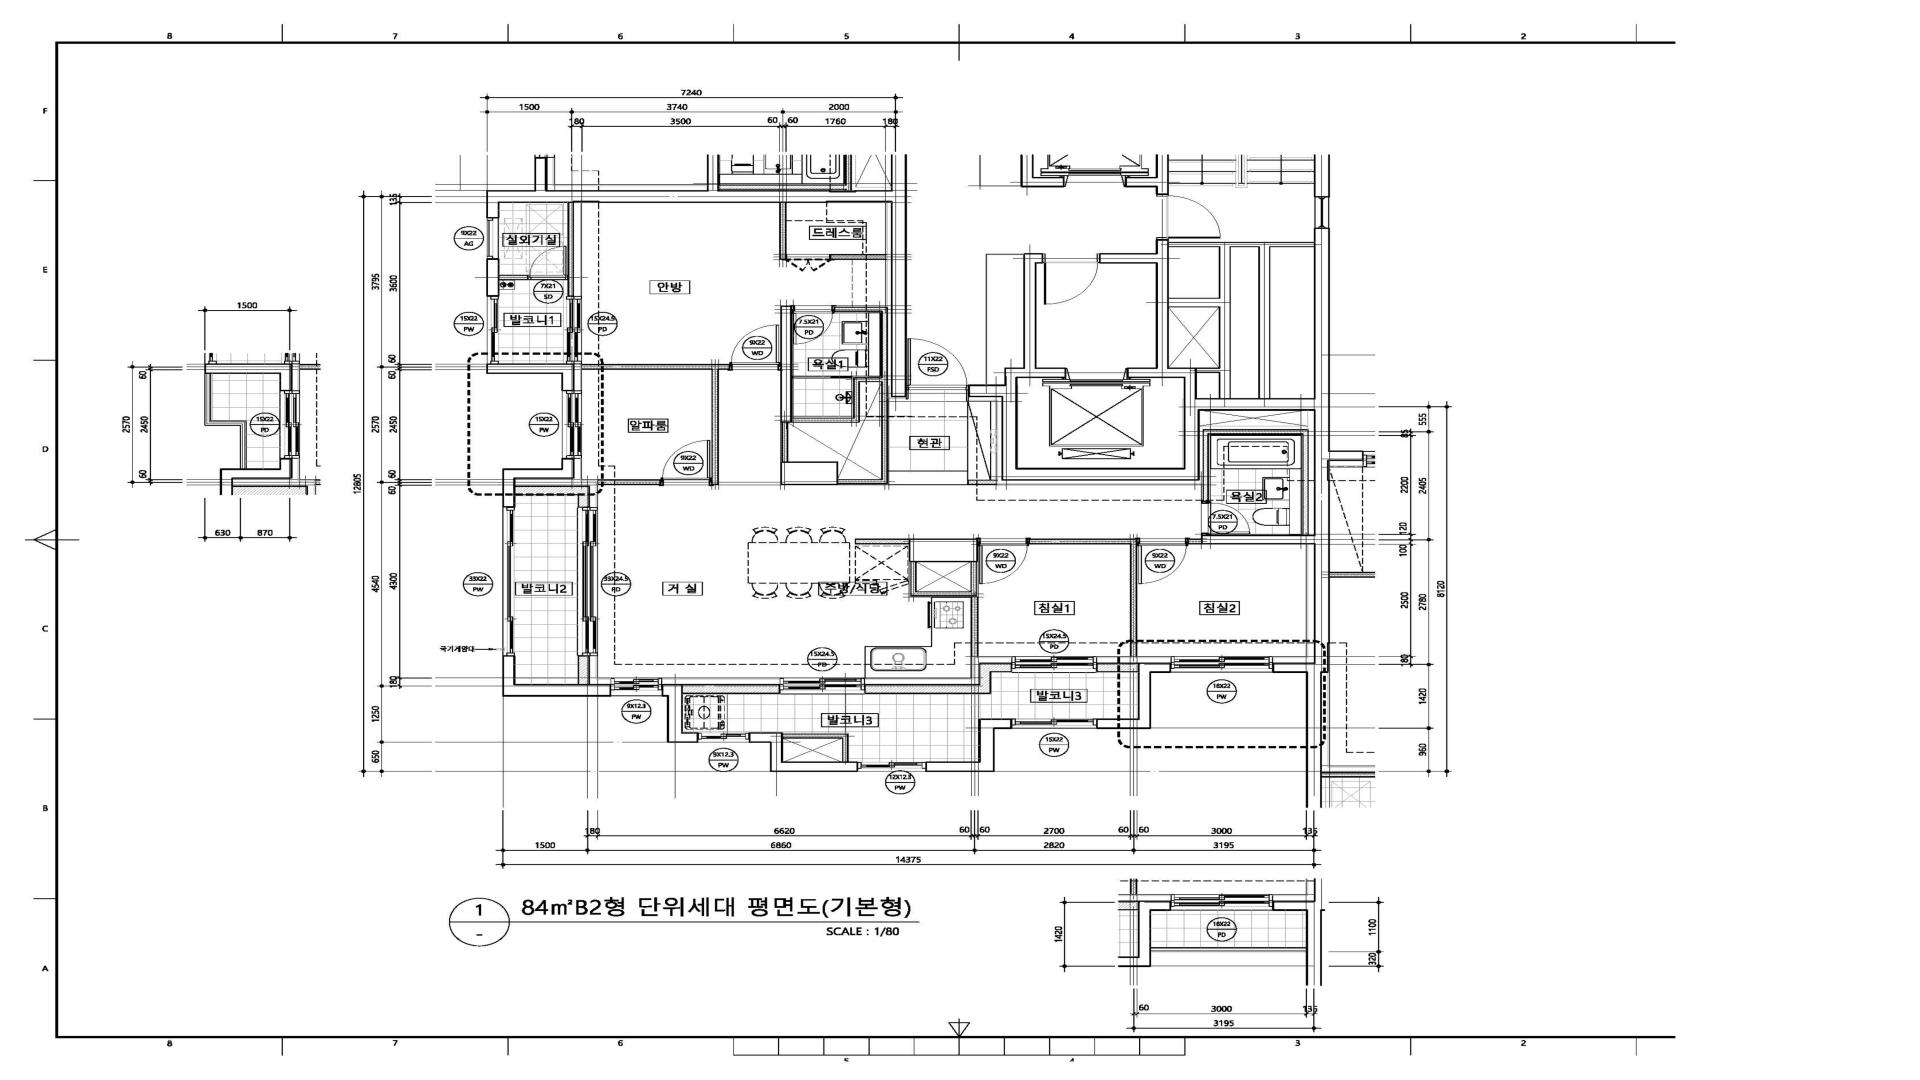door: (907, 339, 968, 390), (1155, 195, 1221, 239), (1043, 256, 1100, 306), (978, 537, 1031, 584), (659, 440, 712, 487), (1137, 538, 1189, 584), (729, 324, 781, 371), (791, 305, 836, 344), (1201, 501, 1250, 535), (529, 245, 568, 280), (786, 255, 831, 273)
wall: (1313, 228, 1331, 662), (968, 368, 1018, 480), (500, 190, 891, 203), (890, 154, 907, 397), (1018, 468, 1183, 480), (1258, 247, 1270, 398), (1218, 248, 1230, 398), (1155, 239, 1168, 368), (909, 538, 978, 562), (1184, 378, 1200, 480), (779, 306, 793, 422), (781, 462, 839, 485), (1023, 264, 1036, 368), (1200, 398, 1315, 410), (865, 684, 980, 695), (881, 307, 887, 479), (516, 684, 611, 696), (770, 761, 858, 773), (1201, 535, 1315, 545), (662, 684, 683, 733), (582, 364, 729, 371), (711, 369, 719, 485), (683, 684, 781, 694), (1302, 429, 1309, 535), (487, 364, 575, 373), (1097, 662, 1171, 673), (1130, 538, 1137, 655), (1168, 241, 1313, 247), (1127, 368, 1197, 378), (978, 729, 994, 773), (1313, 154, 1329, 198), (1030, 538, 1130, 545), (516, 485, 578, 496), (926, 761, 978, 773), (567, 203, 574, 295), (1138, 673, 1151, 719), (1273, 662, 1329, 673), (1100, 253, 1155, 264), (1097, 719, 1151, 729), (502, 655, 516, 696), (502, 468, 516, 508), (1018, 368, 1067, 378), (487, 258, 500, 297), (1209, 429, 1302, 434), (1156, 154, 1168, 195), (1203, 429, 1209, 501), (516, 468, 560, 479), (971, 597, 978, 657), (1168, 298, 1218, 307), (779, 203, 787, 260), (1021, 154, 1034, 187), (770, 732, 783, 762), (487, 190, 500, 219), (578, 655, 591, 684), (980, 662, 992, 694), (855, 538, 909, 545), (910, 591, 977, 596), (666, 732, 699, 742), (978, 719, 1011, 729), (597, 480, 659, 485), (1034, 177, 1064, 187), (793, 418, 853, 423), (783, 733, 843, 738), (781, 422, 789, 462), (1126, 177, 1155, 187), (853, 377, 860, 423), (831, 255, 887, 260), (562, 458, 575, 479), (578, 485, 589, 508), (837, 479, 887, 484), (562, 373, 575, 390), (749, 732, 770, 742), (990, 662, 1011, 673), (1023, 253, 1043, 264), (500, 274, 529, 281), (910, 562, 916, 591), (971, 562, 977, 591), (843, 733, 849, 761), (835, 307, 881, 311), (967, 480, 998, 485), (860, 377, 881, 382), (1197, 368, 1218, 373), (1188, 538, 1201, 545)
window: (578, 508, 597, 655), (502, 508, 516, 655), (1171, 655, 1273, 673), (1011, 655, 1097, 673), (779, 678, 865, 695), (562, 390, 582, 459), (566, 295, 582, 364), (611, 678, 662, 696), (1011, 719, 1097, 729), (487, 297, 498, 364), (858, 762, 926, 771), (487, 218, 498, 258), (698, 733, 749, 742), (1315, 198, 1329, 228)
